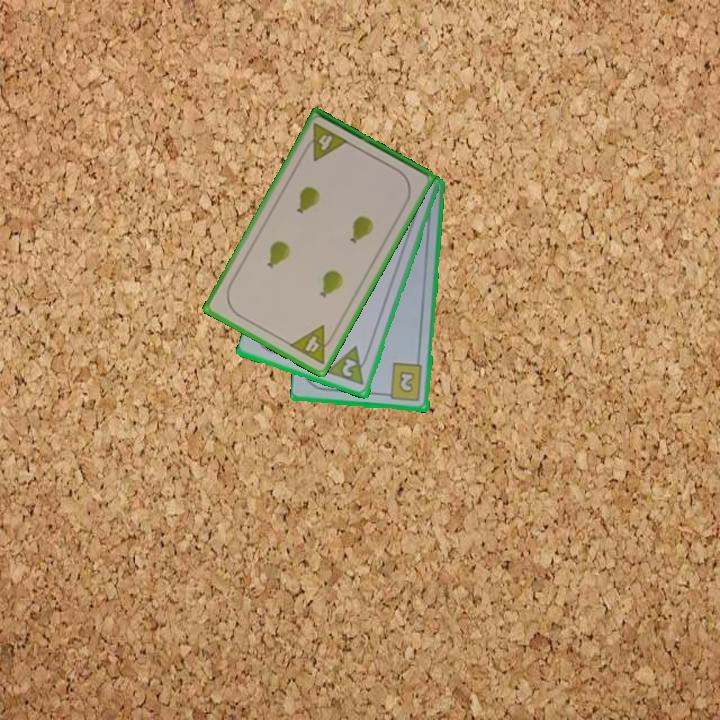2b: (381, 360, 426, 404)
2p: (338, 355, 359, 380)
4p: (286, 322, 339, 368), (299, 120, 351, 164)
